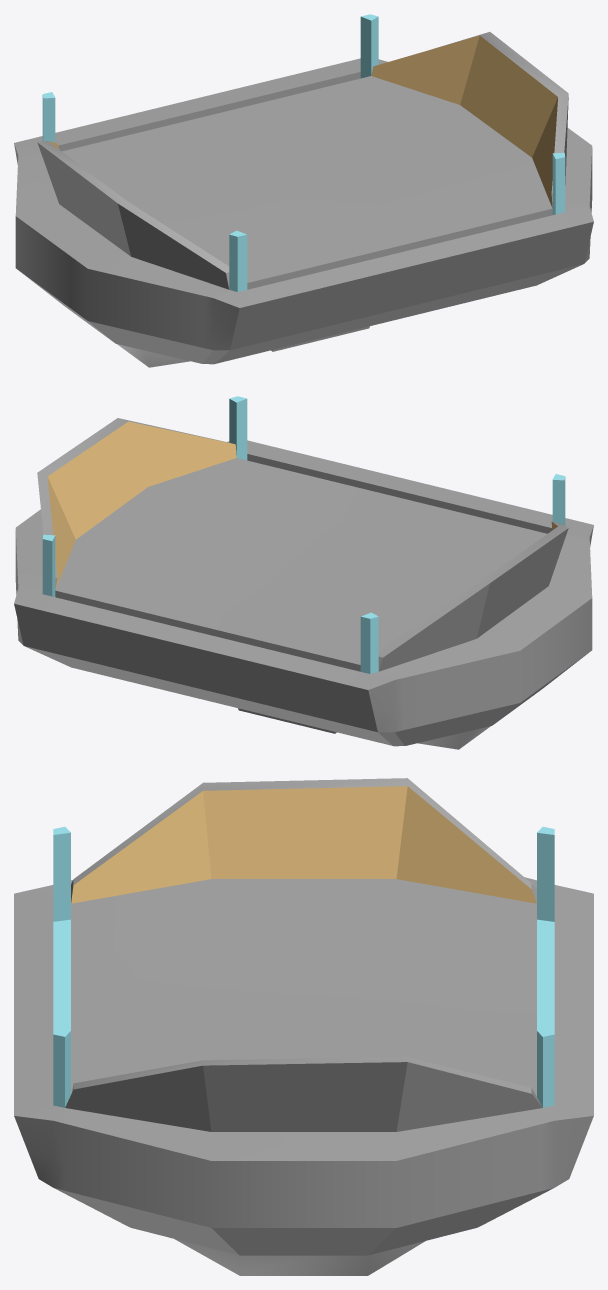
The model's file is Plataforma.fbx.
The picture shows the model from 3 angles, top to bottom: view 1: azimuth 30°, elevation 25°; view 2: azimuth 150°, elevation 25°; view 3: azimuth 270°, elevation 25°; orthographic projection. The views are drawn at different scales.
Visible parts, largest first — view 1: pCube1; view 2: pCube1; view 3: pCube1.
Boxes of the visible parts, x1,y1,x2,y2 form: pCube1: [14, 14, 593, 367]; pCube1: [14, 396, 593, 749]; pCube1: [14, 778, 593, 1275].
Bounding box in the file's own units: 136 × 54.32 × 105.
